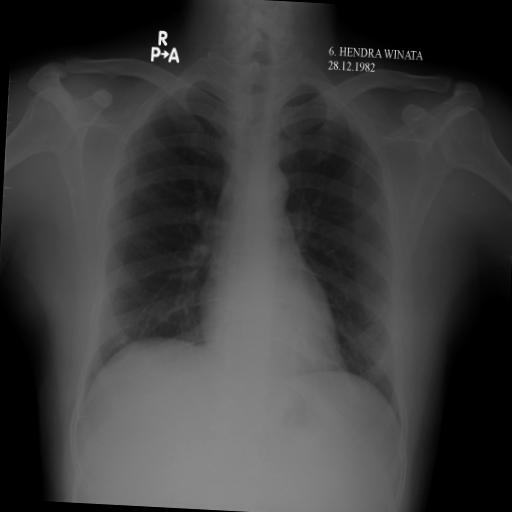normal: (68, 46, 429, 440)
